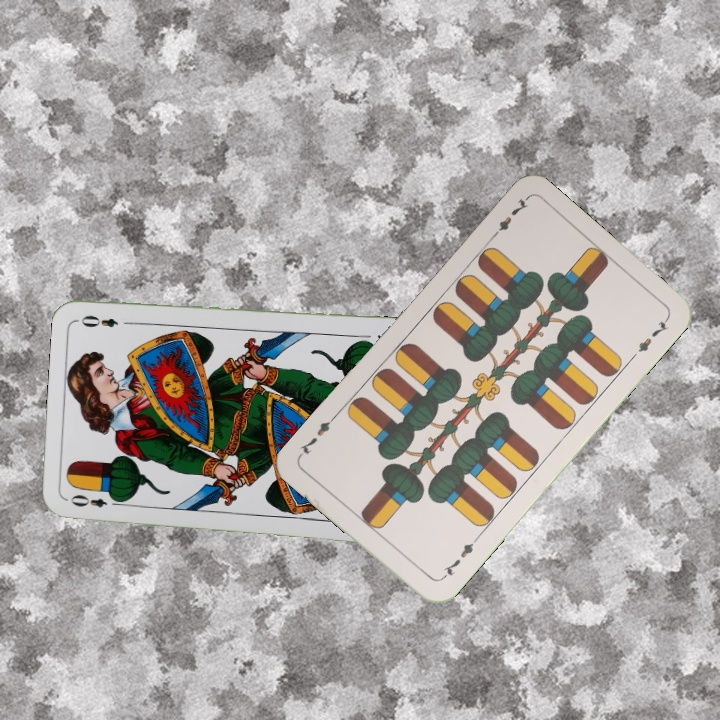E7: (486, 194, 531, 242), (436, 534, 480, 583)
EO: (66, 491, 124, 510)
